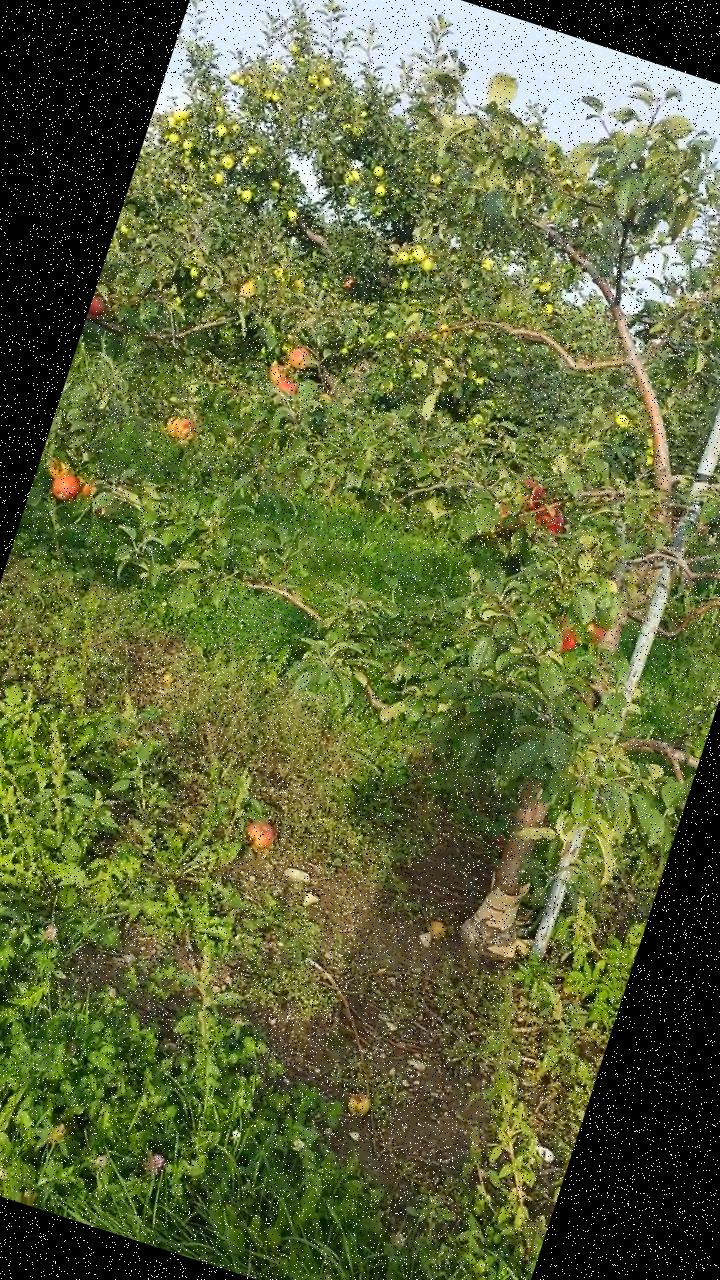Apple: (513, 476, 550, 514), (46, 468, 84, 504), (532, 503, 567, 537), (164, 412, 200, 442), (284, 340, 312, 371), (556, 626, 580, 656), (266, 359, 292, 386), (43, 456, 71, 481), (86, 294, 109, 324), (582, 620, 608, 644), (75, 476, 99, 496), (272, 376, 298, 394)
